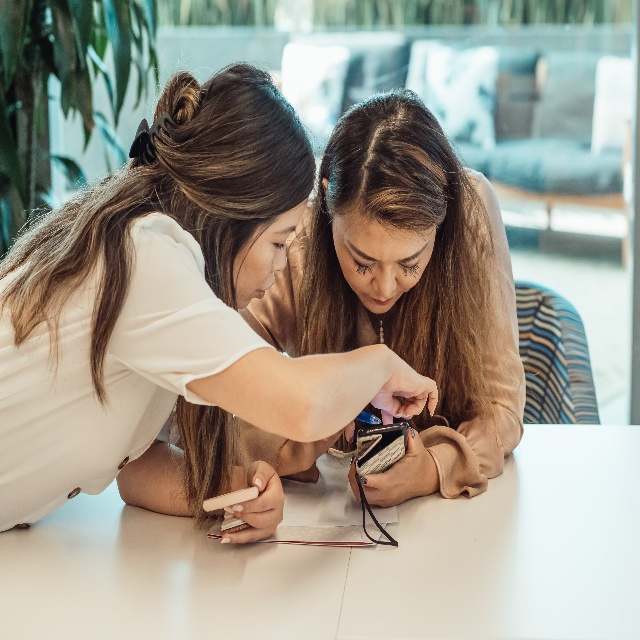Sin_guantes: (347, 426, 427, 510), (220, 458, 285, 545), (370, 349, 439, 421)
